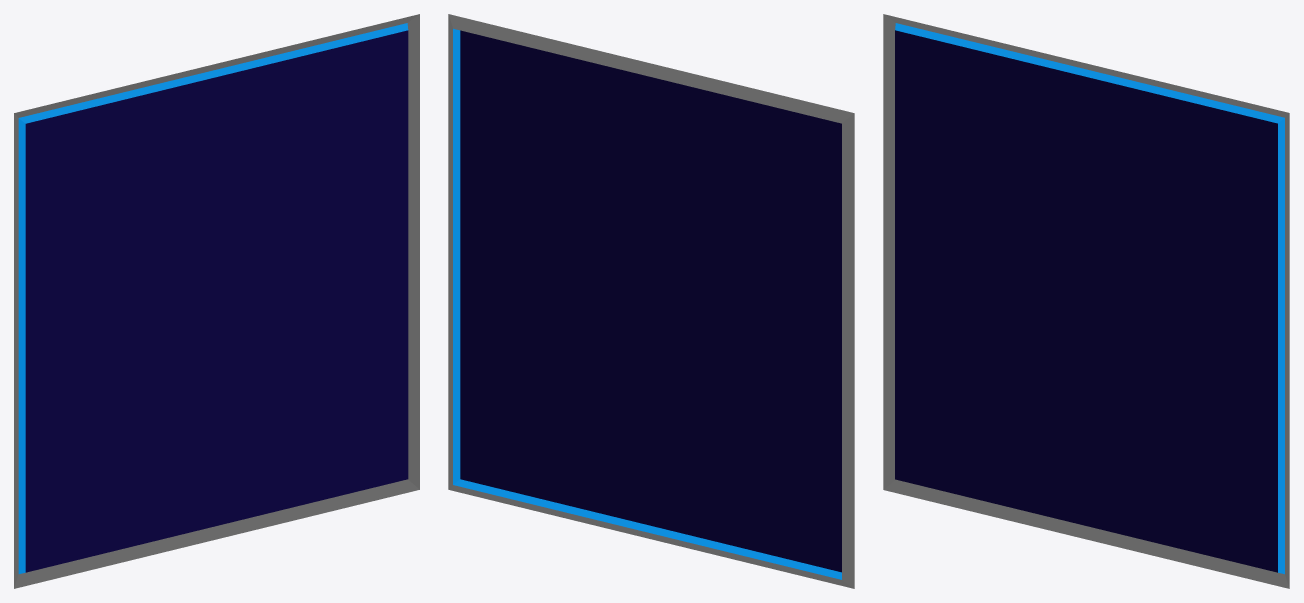
Rendered from content-info-background.glb.
The picture shows the model from 3 angles, left to right: view 1: azimuth 30°, elevation 25°; view 2: azimuth 150°, elevation 25°; view 3: azimuth 330°, elevation 25°; orthographic projection.
Parts seen in each view (by area): view 1: card-info-background; view 2: card-info-background; view 3: card-info-background.
Boxes of the visible parts, x1=… form: card-info-background: x1=14, y1=14, x2=419, y2=588; card-info-background: x1=448, y1=14, x2=854, y2=588; card-info-background: x1=883, y1=14, x2=1289, y2=588.
Size of the model in its own units: 2.14 by 2.4 by 0.036.
Materials: 1 (1 with a texture image).
